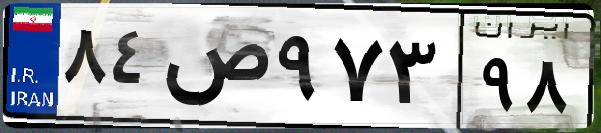3: (385, 28, 445, 110)
4: (110, 28, 158, 98)
7: (330, 28, 385, 110)
8: (57, 26, 110, 100), (525, 38, 570, 115)
9: (270, 28, 330, 110), (475, 38, 525, 113)
ص: (158, 20, 270, 120)
